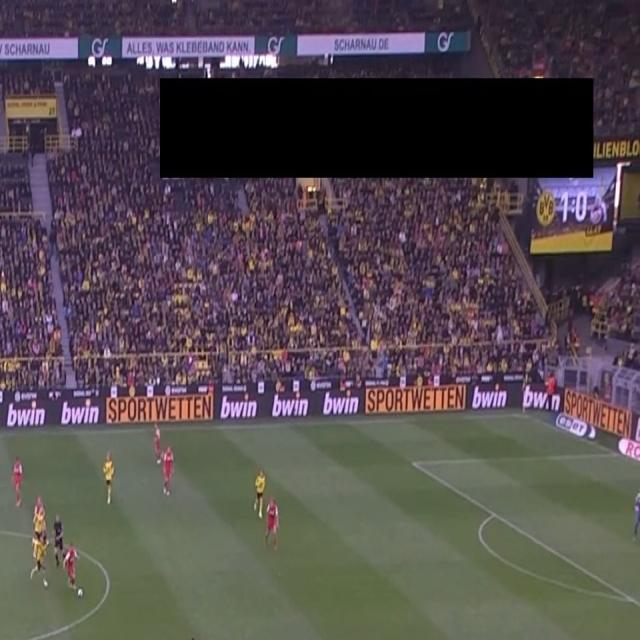ball: (78, 588, 84, 598)
